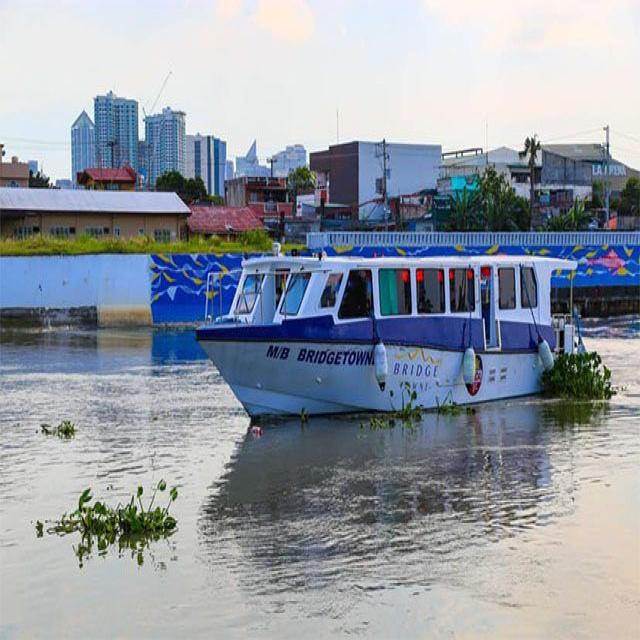houseboat: (199, 242, 587, 419)
